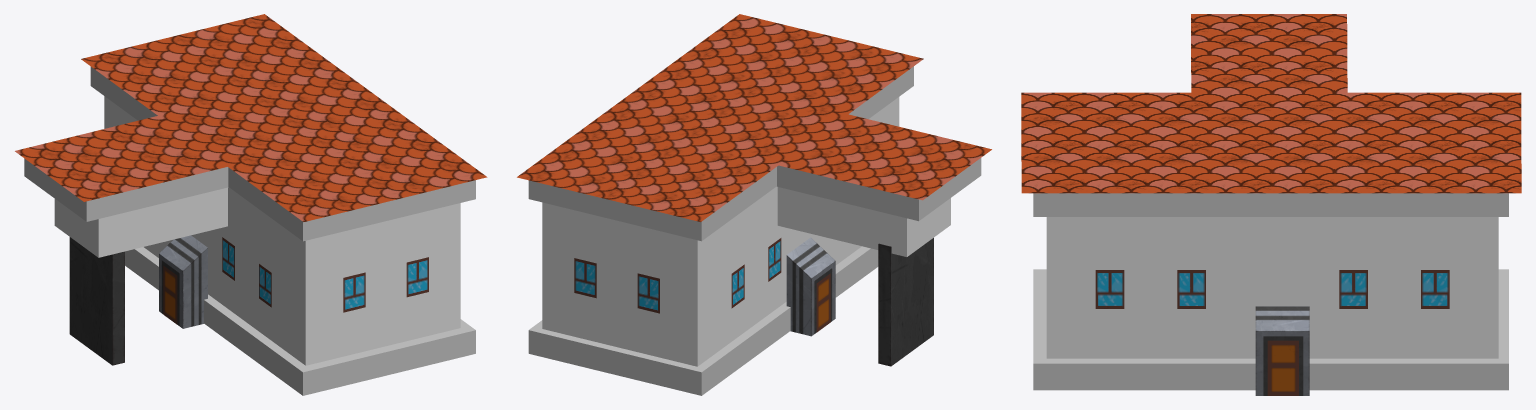
File: home2.fbx
3 views of the same model, side by side, from view 1: azimuth 30°, elevation 25°; view 2: azimuth 150°, elevation 25°; view 3: azimuth 270°, elevation 25° (orthographic). The views are drawn at different scales.
Parts seen in each view (by area): view 1: Cube.057; view 2: Cube.057; view 3: Cube.057.
Boxes of the visible parts, <box> form: Cube.057: <box>15,14,487,395</box>; Cube.057: <box>517,14,991,395</box>; Cube.057: <box>1021,14,1521,395</box>.
Size of the model in its own units: 403 by 215 by 470.
